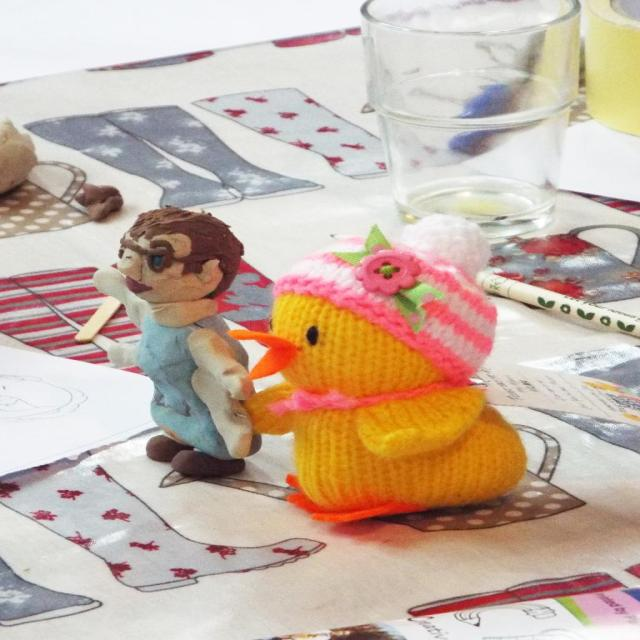Toy: (220, 222, 526, 520), (83, 210, 261, 484)
